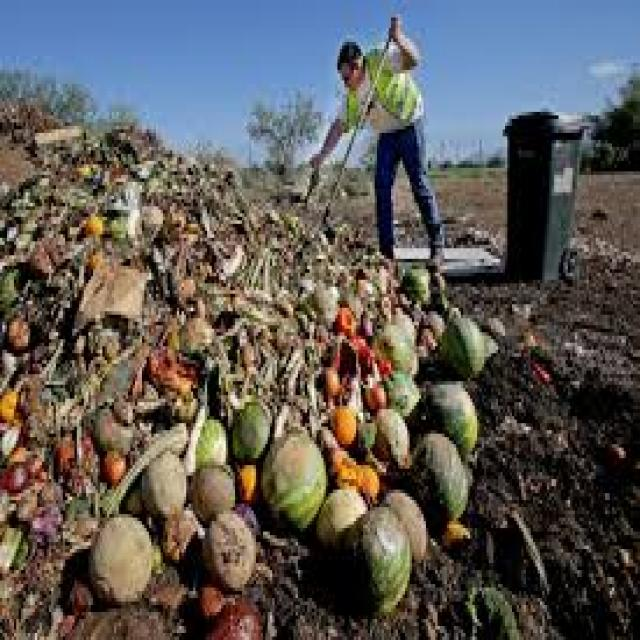food_waste: (34, 326, 509, 571), (32, 183, 267, 574)
